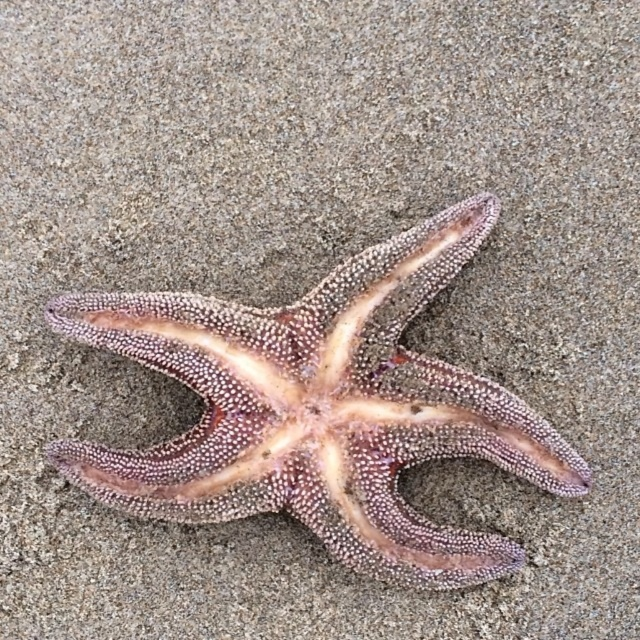Starfish: (44, 192, 593, 592)
